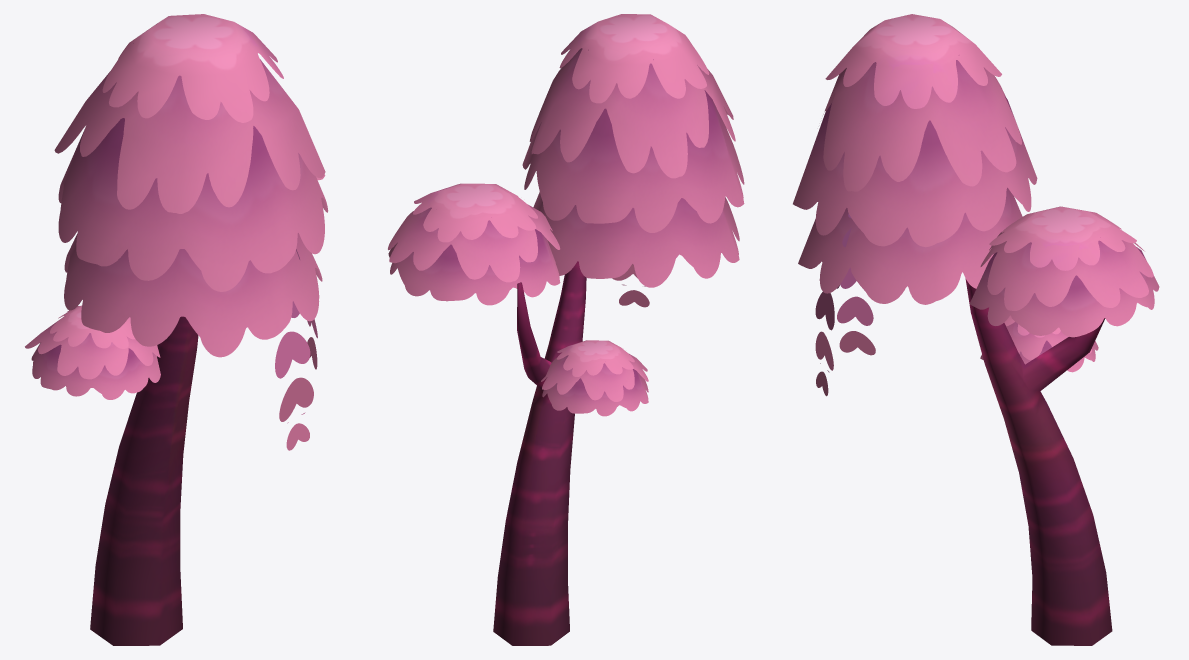
Rendered from SM_Tree_Small2.fbx.
3 views of the same model, side by side, from view 1: azimuth 30°, elevation 25°; view 2: azimuth 150°, elevation 25°; view 3: azimuth 270°, elevation 25° (orthographic). The views are drawn at different scales.
Parts seen in each view (by area): view 1: SM_Tree_Small2_Leaves, SM_Tree_Small2_Trunk, SM_Tree_Small2_DroopingLeaves; view 2: SM_Tree_Small2_Leaves, SM_Tree_Small2_Trunk, SM_Tree_Small2_DroopingLeaves; view 3: SM_Tree_Small2_Leaves, SM_Tree_Small2_Trunk, SM_Tree_Small2_DroopingLeaves.
Part boxes in pixels (bbox=[...]): SM_Tree_Small2_Leaves: bbox=[25, 14, 328, 399]; SM_Tree_Small2_Trunk: bbox=[90, 316, 198, 645]; SM_Tree_Small2_DroopingLeaves: bbox=[275, 249, 317, 450]; SM_Tree_Small2_Leaves: bbox=[388, 14, 744, 416]; SM_Tree_Small2_Trunk: bbox=[493, 261, 586, 645]; SM_Tree_Small2_DroopingLeaves: bbox=[612, 264, 649, 307]; SM_Tree_Small2_Leaves: bbox=[793, 14, 1159, 372]; SM_Tree_Small2_Trunk: bbox=[965, 278, 1112, 645]; SM_Tree_Small2_DroopingLeaves: bbox=[815, 213, 875, 396].
Bounding box in the file's own units: 4.1 × 7.69 × 4.67.
